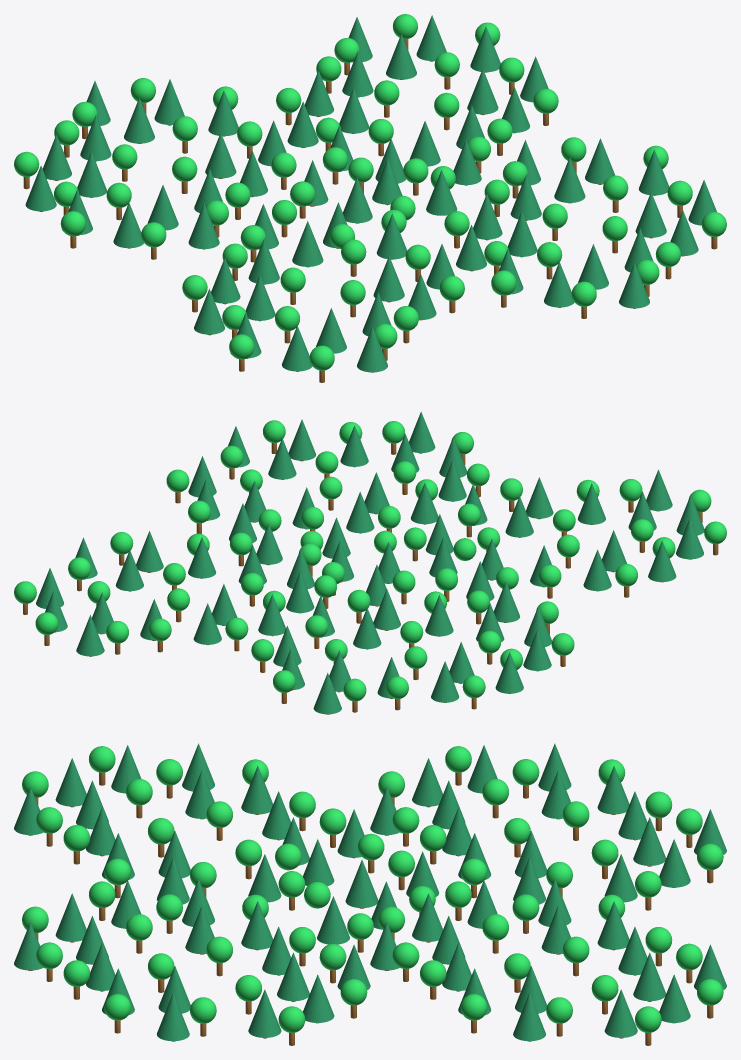
3 views of the same model, one above another, from view 1: azimuth 30°, elevation 25°; view 2: azimuth 150°, elevation 25°; view 3: azimuth 270°, elevation 25° (orthographic). The views are drawn at different scales.
Visible parts, largest first — view 1: Конус.004, Конус.040, Конус.020, Конус.049, Конус.001, Конус.017, Конус.052, Конус.056, Конус.002, Конус.033, Конус.036, Конус.008 (+41 smaller); view 2: Конус, Конус.023, Конус.030, Конус.045, Конус.004, Конус.010, Конус.016, Конус.058, Конус.062, Конус.014, Конус.007, Конус.042 (+38 smaller); view 3: Конус.017, Конус.050, Конус.028, Конус.060, Конус.065, Конус.018, Конус.001, Конус.049, Конус.066, Конус.023, Конус.039, Конус.007 (+114 smaller).
Part boxes in pixels (bbox=[...]): Конус.004: bbox=[25, 165, 56, 211]; Конус.040: bbox=[357, 326, 387, 372]; Конус.020: bbox=[287, 101, 318, 147]; Конус.049: bbox=[554, 157, 585, 202]; Конус.001: bbox=[124, 98, 154, 143]; Конус.017: bbox=[386, 33, 416, 79]; Конус.052: bbox=[456, 225, 486, 270]; Конус.056: bbox=[619, 262, 649, 308]; Конус.002: bbox=[208, 90, 238, 136]; Конус.033: bbox=[292, 221, 323, 266]; Конус.036: bbox=[194, 288, 224, 334]; Конус.008: bbox=[188, 203, 219, 249]; Конус: bbox=[313, 672, 341, 714]; Конус.023: bbox=[193, 603, 221, 644]; Конус.030: bbox=[188, 537, 216, 578]; Конус.045: bbox=[505, 496, 533, 537]; Конус.004: bbox=[495, 652, 523, 693]; Конус.010: bbox=[523, 629, 551, 670]; Конус.016: bbox=[76, 615, 104, 656]; Конус.058: bbox=[438, 460, 466, 501]; Конус.062: bbox=[340, 425, 368, 466]; Конус.014: bbox=[425, 595, 453, 636]; Конус.007: bbox=[431, 661, 459, 702]; Конус.042: bbox=[676, 518, 703, 559]; Конус.017: bbox=[633, 952, 666, 1001]; Конус.050: bbox=[248, 989, 281, 1037]; Конус.028: bbox=[513, 992, 545, 1041]; Конус.060: bbox=[157, 992, 189, 1041]; Конус.065: bbox=[345, 859, 378, 907]; Конус.018: bbox=[604, 989, 637, 1037]; Конус.001: bbox=[633, 817, 666, 865]; Конус.049: bbox=[277, 952, 309, 1001]; Конус.066: bbox=[317, 896, 349, 944]; Конус.023: bbox=[597, 901, 629, 949]; Конус.039: bbox=[241, 765, 273, 814]; Конус.007: bbox=[597, 765, 629, 814].
Size of the model in its own units: 210 by 17.37 by 233.
